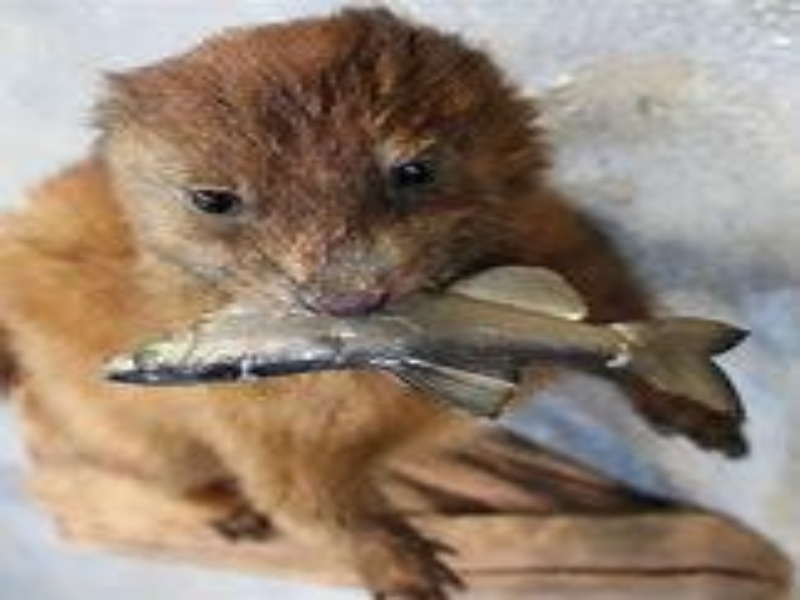minkish: (3, 7, 575, 585)
